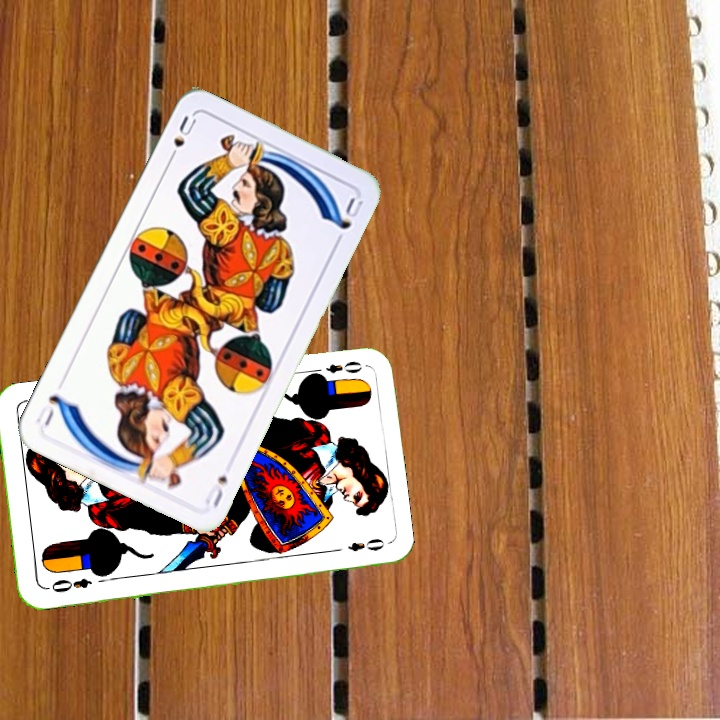EO: (308, 357, 365, 381), (41, 574, 94, 595)
SU: (164, 111, 199, 166), (201, 471, 230, 511)
